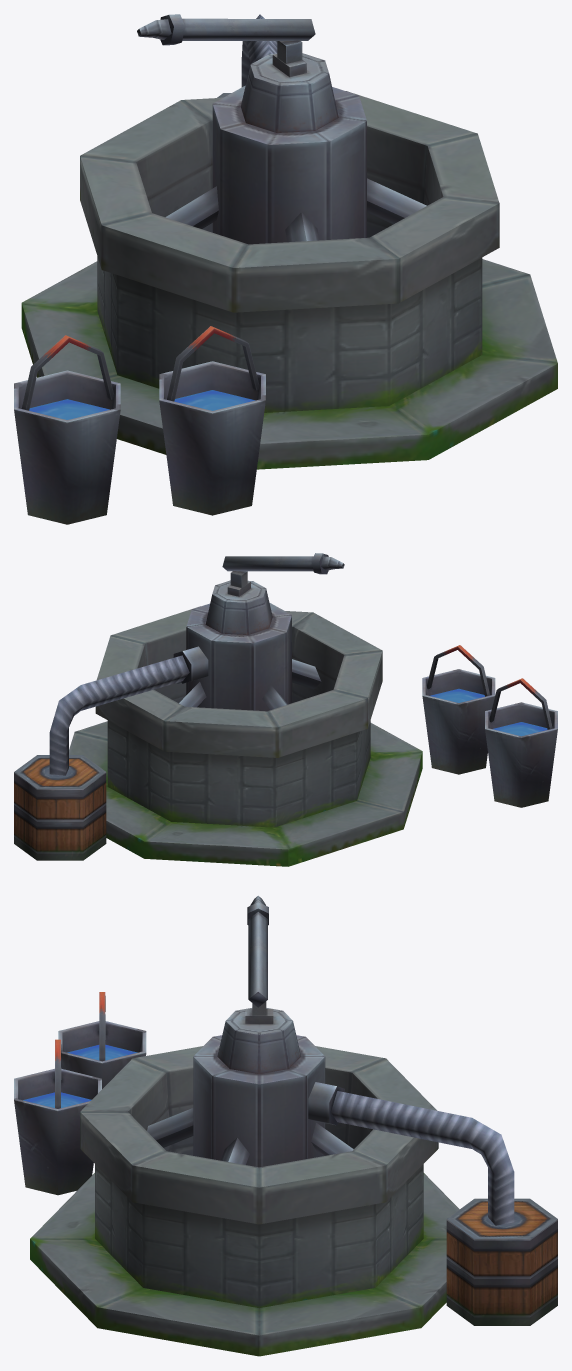
File: scene_shenmisenlin_gj01.FBX
The picture shows the model from 3 angles, top to bottom: view 1: azimuth 30°, elevation 25°; view 2: azimuth 150°, elevation 25°; view 3: azimuth 270°, elevation 25°; orthographic projection. The views are drawn at different scales.
Parts seen in each view (by area): view 1: scene_shenmisenlin_gj01; view 2: scene_shenmisenlin_gj01; view 3: scene_shenmisenlin_gj01.
Boxes of the visible parts, <box> form: scene_shenmisenlin_gj01: <box>14,14,557,524</box>; scene_shenmisenlin_gj01: <box>14,553,557,866</box>; scene_shenmisenlin_gj01: <box>14,895,557,1356</box>.
Bounding box in the file's own units: 271 × 159 × 253.
